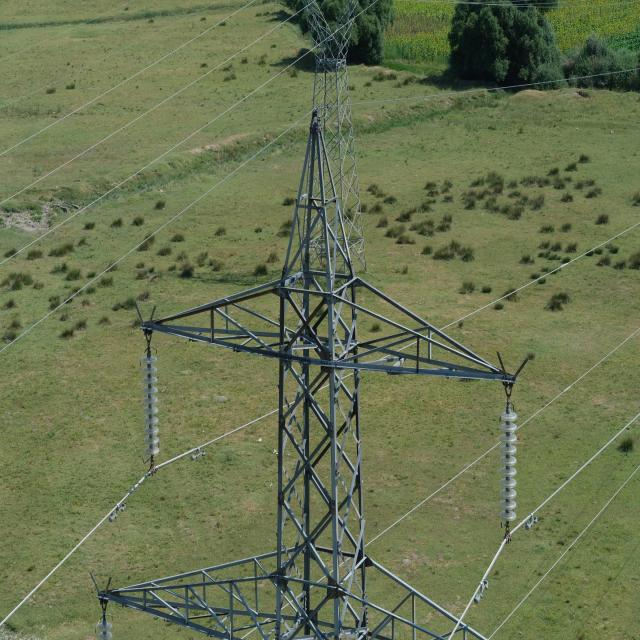direk: (148, 135, 508, 639), (289, 0, 375, 308)
tree: (453, 0, 562, 93), (572, 36, 639, 94)
